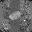people: (9, 11, 21, 20)
